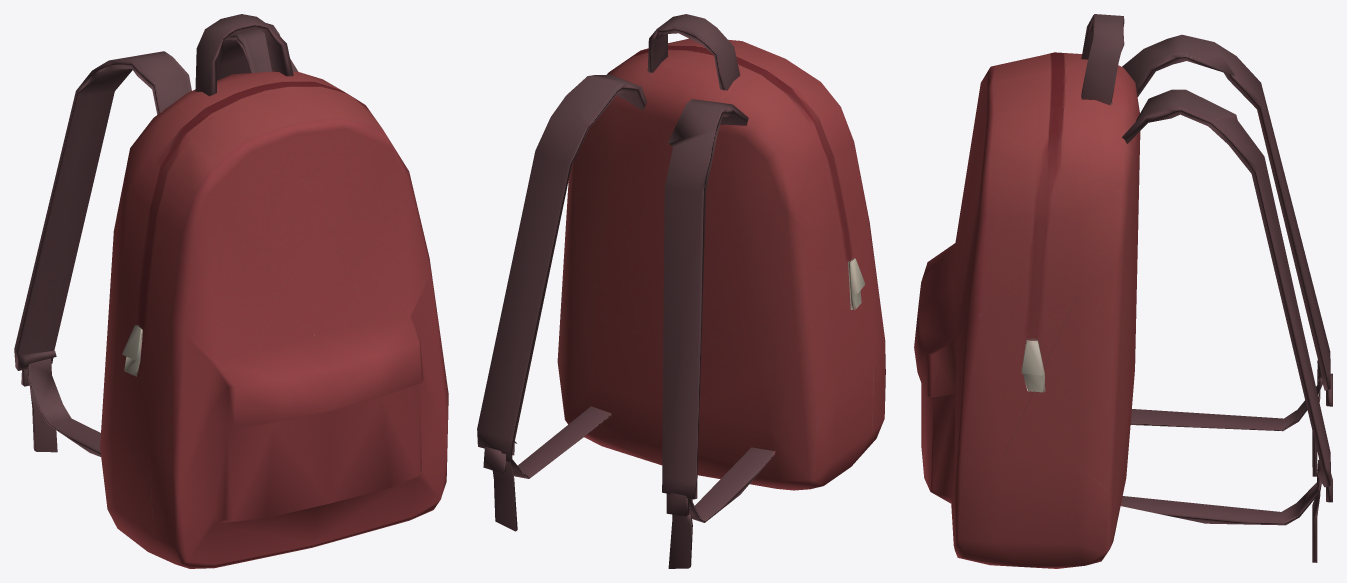
Rendered from backpack.glb.
3 renders of one model, left to right at view 1: azimuth 30°, elevation 25°; view 2: azimuth 150°, elevation 25°; view 3: azimuth 270°, elevation 25°, orthographic. The views are drawn at different scales.
Bounding box in the file's own units: 0.6079 × 0.9531 × 0.7266.
1 material, 1 textured.
